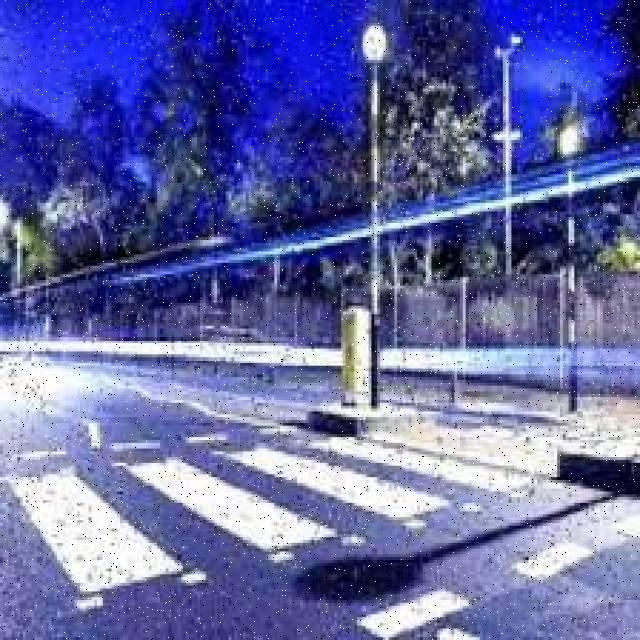crosswalk: (1, 357, 635, 634)
